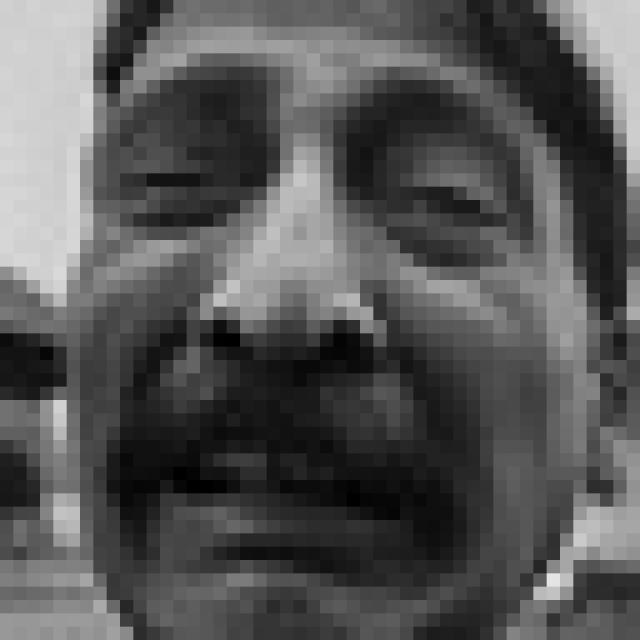sad: (108, 47, 541, 581)
